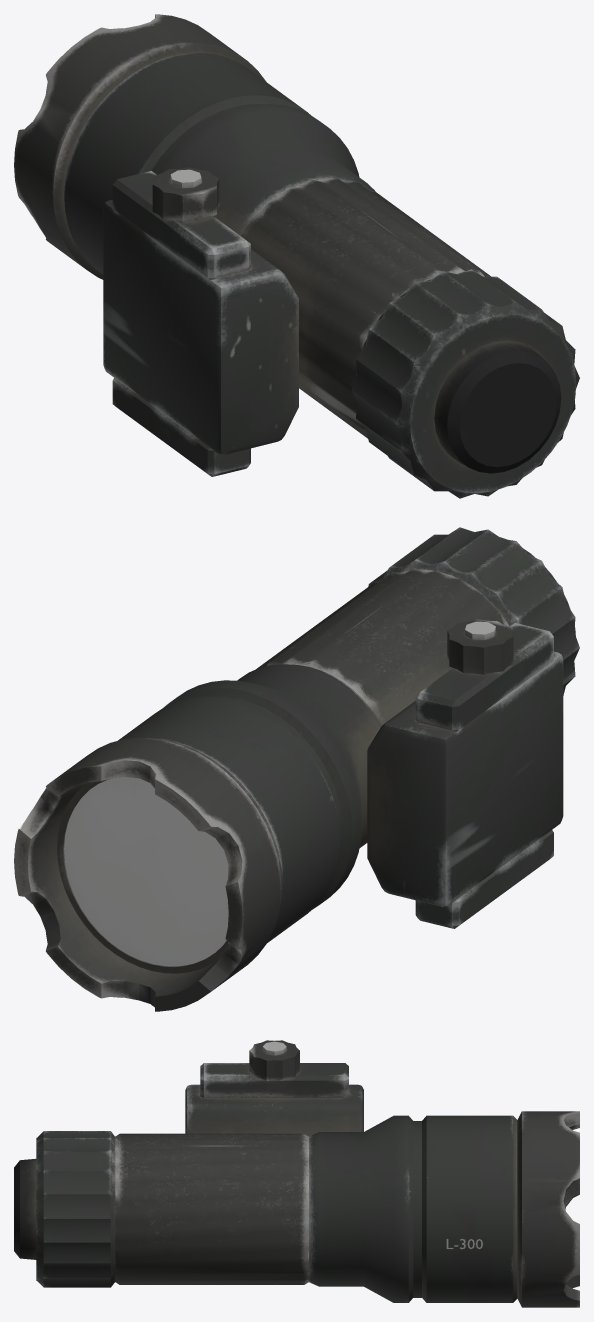
Rendered from lanterna_compacta_gasto.glb.
3 views of the same model, one above another, from view 1: azimuth 30°, elevation 25°; view 2: azimuth 150°, elevation 25°; view 3: azimuth 270°, elevation 25° (orthographic). The views are drawn at different scales.
Parts seen in each view (by area): view 1: lanterna_compacta_gasto_lanterna; view 2: lanterna_compacta_gasto_lanterna; view 3: lanterna_compacta_gasto_lanterna.
Part boxes in pixels (box(x1,y1,x2,y2)): lanterna_compacta_gasto_lanterna: box(14, 14, 579, 498); lanterna_compacta_gasto_lanterna: box(14, 527, 579, 1011); lanterna_compacta_gasto_lanterna: box(14, 1040, 579, 1307).
Bounding box in the file's own units: 0.0334 × 0.0294 × 0.076.
3 materials, 1 textured.
